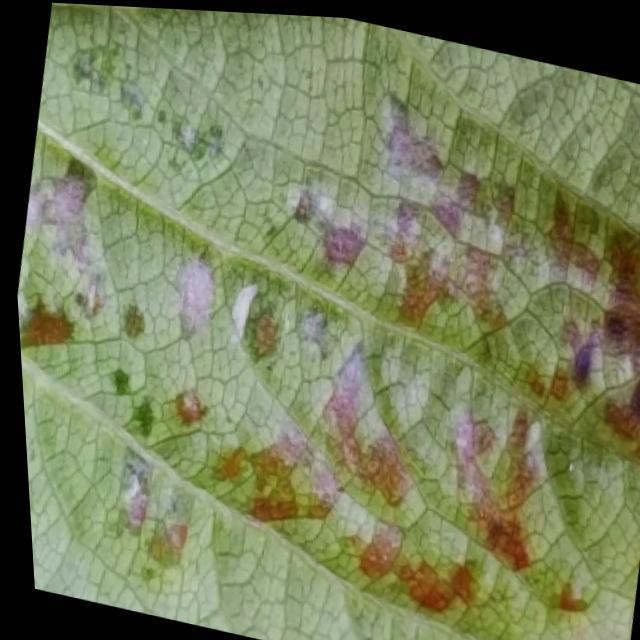Angular Leafspot: (14, 2, 640, 640)
